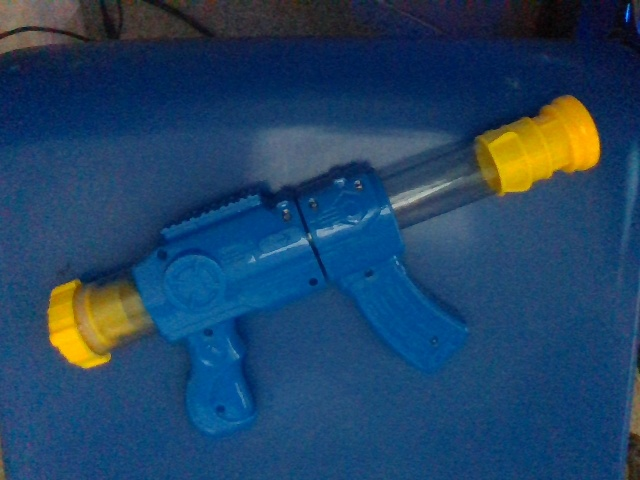screw hole: (155, 249, 168, 262), (214, 404, 226, 417), (280, 209, 292, 222), (364, 268, 375, 279), (308, 198, 319, 208), (353, 180, 364, 190), (204, 328, 214, 338), (308, 277, 318, 287), (429, 335, 439, 345)
toy: (47, 95, 600, 433)
